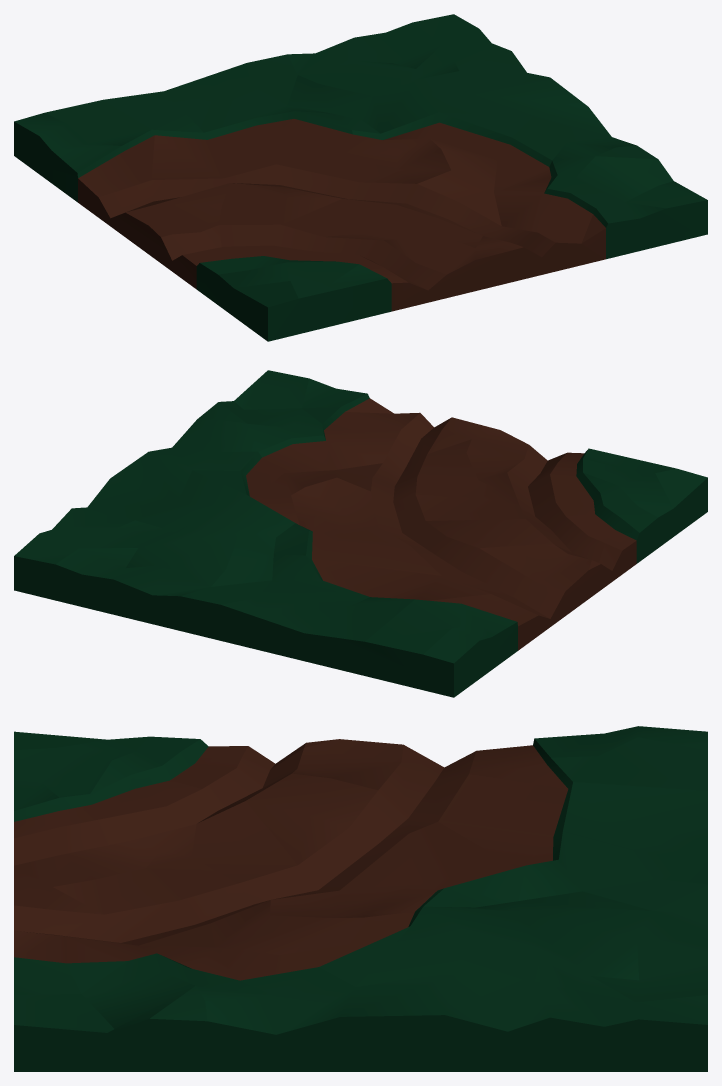
File: Ground_Road_Turn_RU.fbx
The picture shows the model from 3 angles, top to bottom: view 1: azimuth 30°, elevation 25°; view 2: azimuth 150°, elevation 25°; view 3: azimuth 270°, elevation 25°; orthographic projection. The views are drawn at different scales.
Visible parts, largest first — view 1: Ground_Road_Turn_RU; view 2: Ground_Road_Turn_RU; view 3: Ground_Road_Turn_RU.
Part boxes in pixels (left/top/right/bottom): Ground_Road_Turn_RU: left=14, top=14, right=707, bottom=341; Ground_Road_Turn_RU: left=14, top=370, right=707, bottom=697; Ground_Road_Turn_RU: left=14, top=726, right=707, bottom=1071.
Size of the model in its own units: 147 by 15.12 by 147.
